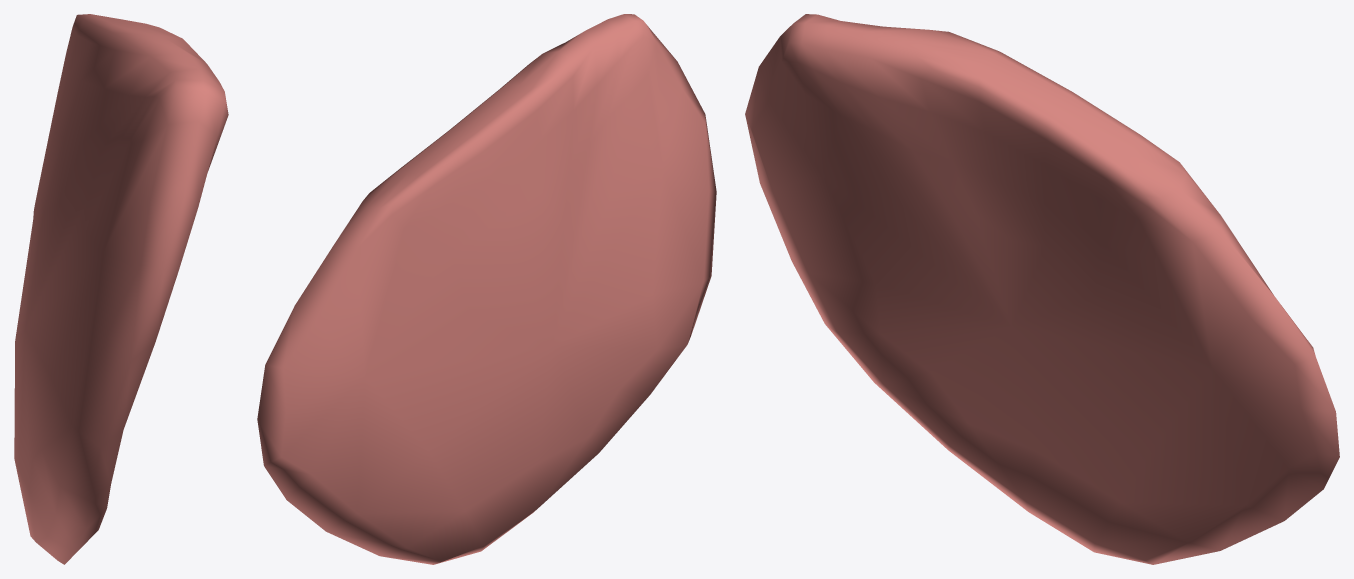
3 renders of one model, left to right at view 1: azimuth 30°, elevation 25°; view 2: azimuth 150°, elevation 25°; view 3: azimuth 270°, elevation 25°, orthographic. The views are drawn at different scales.
Visible parts, largest first — view 1: ZA_5f7b604bacbe99ad; view 2: ZA_5f7b604bacbe99ad; view 3: ZA_5f7b604bacbe99ad.
Part boxes in pixels (x1,y1,x2,y2): ZA_5f7b604bacbe99ad: [14, 14, 228, 564]; ZA_5f7b604bacbe99ad: [257, 14, 716, 564]; ZA_5f7b604bacbe99ad: [745, 14, 1339, 564].
Bounding box in the file's own units: 0.00229 × 0.0043 × 0.00446.
